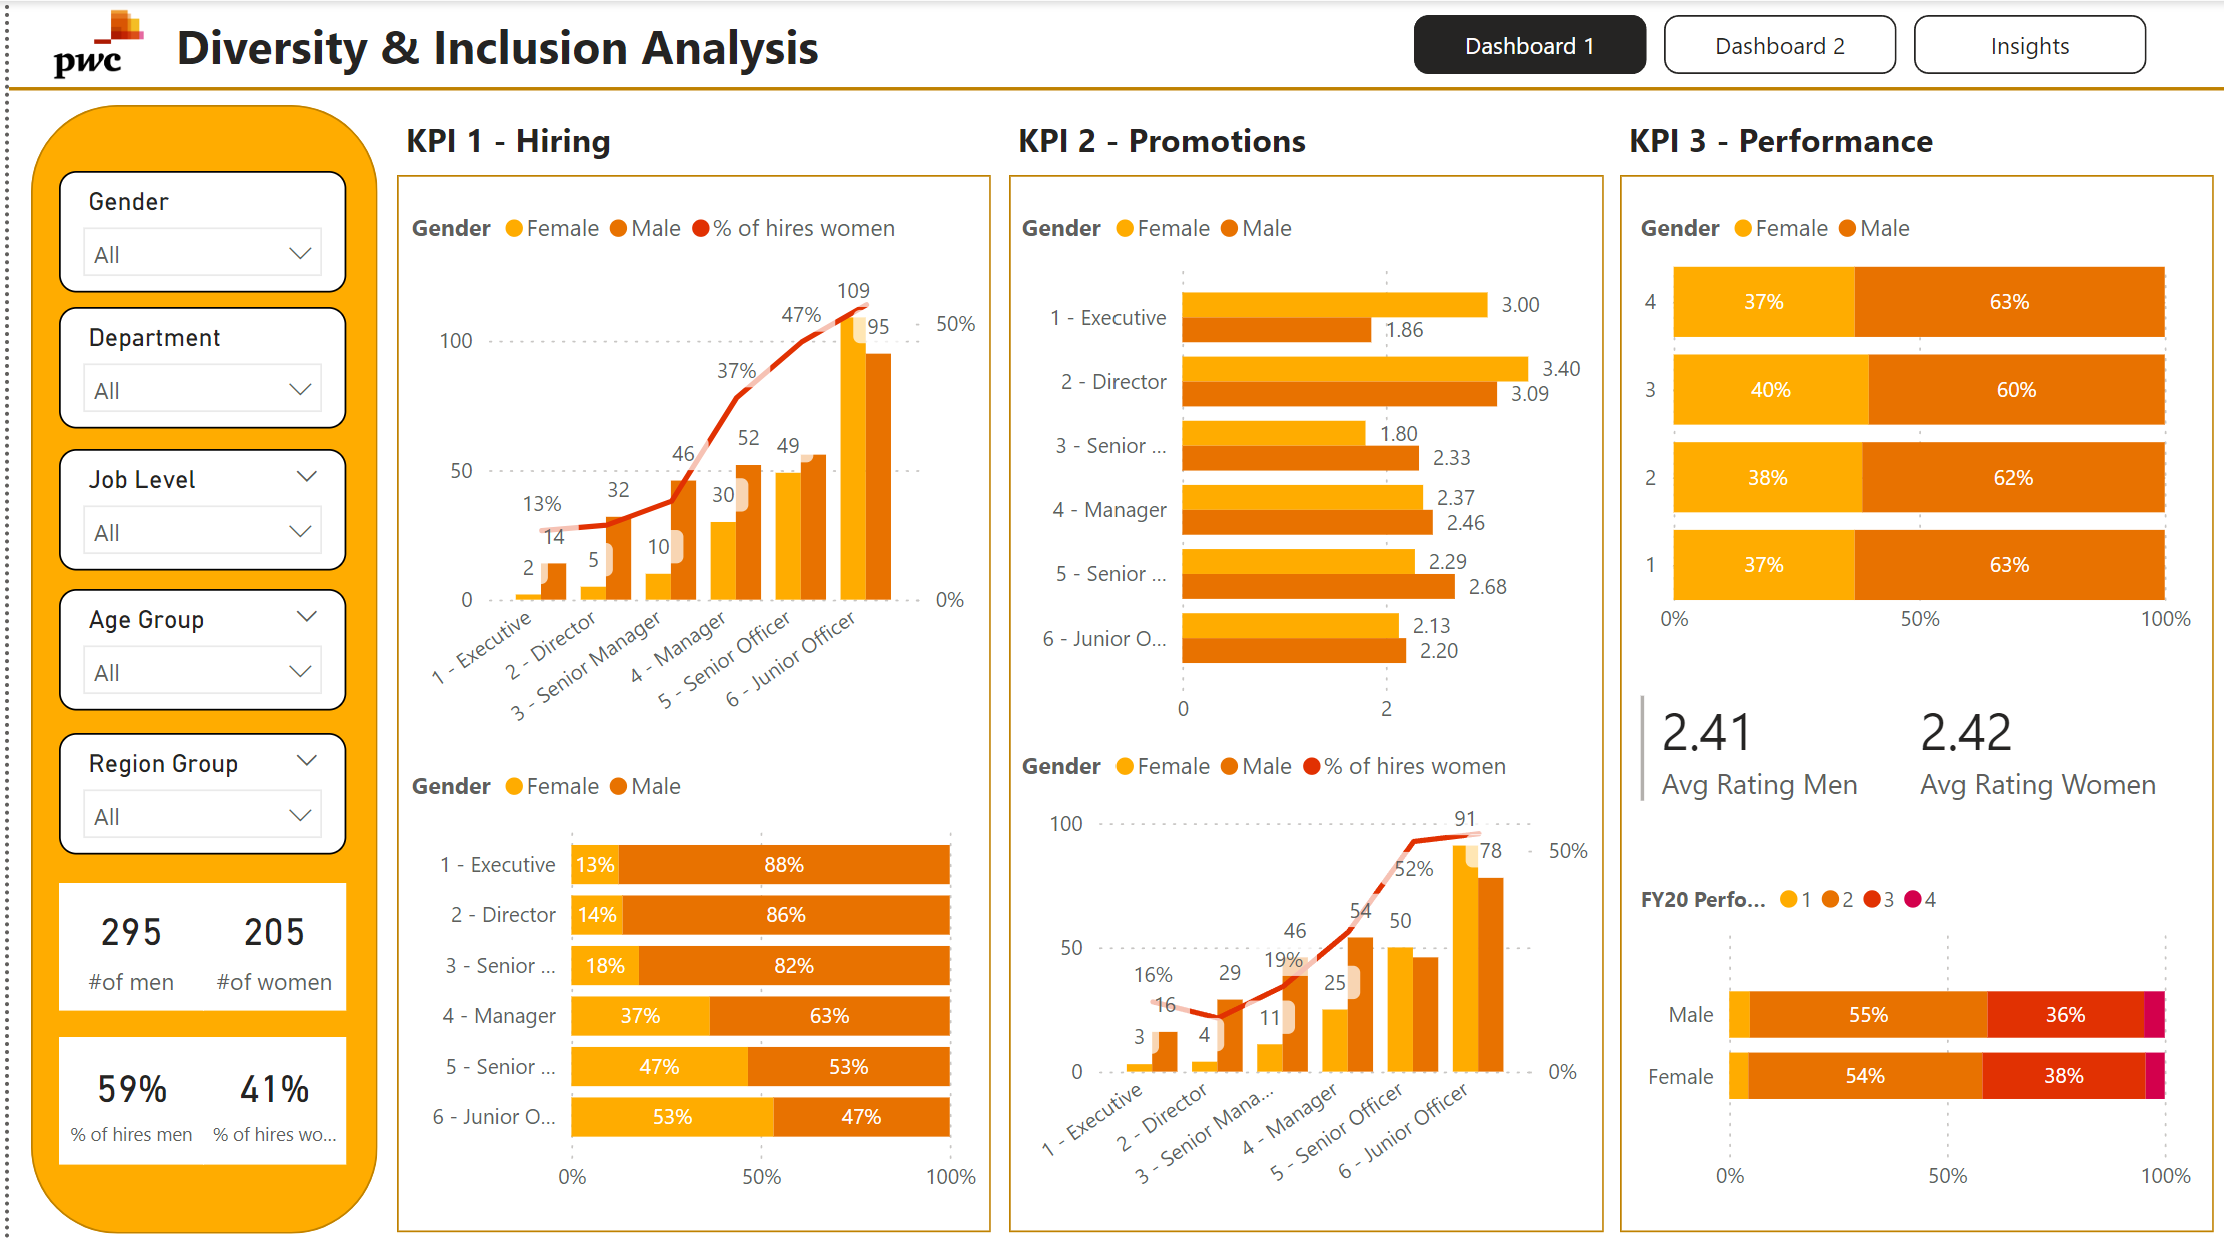

Layout of this report page (visuals, bound fields, positions):
{"tool":"powerbi","page":{"name":"Dashboard 1","canvas":[1280,720],"ordinal":0},"visuals":[{"type":"textbox","box":[90.4,1.8,393.1,45.7],"z":0},{"type":"shape","box":[12.5,59.1,199.7,650.1],"z":0,"group":"g1"},{"type":"image","box":[12.5,0,77.9,50.1],"z":1000},{"type":"pageNavigator","box":[808.7,8.1,423.6,34],"z":2000},{"type":"shape","box":[0,37.6,1279.7,25.1],"z":2000,"group":"g1"},{"type":"hundredPercentStackedBarChart","fields":{"Category":["Pharma Group AG.Job Level after FY20 promotions"],"Y":["CountNonNull(Pharma Group AG.Employee ID)"],"Series":["Pharma Group AG.Gender"]},"box":[227.5,431.6,334.9,263.3],"z":3000},{"type":"slicer","title":"Gender","fields":{"Values":["Pharma Group AG.Gender"]},"box":[28.7,97.6,165.7,69.9],"z":4000,"group":"g1"},{"type":"lineClusteredColumnComboChart","fields":{"Category":["Pharma Group AG.Job Level after FY20 promotions"],"Y":["CountNonNull(Pharma Group AG.Employee ID)"],"Y2":["Pharma Group AG.% of hires women"],"Series":["Pharma Group AG.Gender"]},"box":[227.5,111,334.9,325.1],"z":4000},{"type":"slicer","fields":{"Values":["Pharma Group AG.Last Department in FY20"]},"box":[28.7,176.4,165.7,69.9],"z":5000,"group":"g1"},{"type":"lineClusteredColumnComboChart","fields":{"Y":["CountNonNull(Pharma Group AG.Employee ID)"],"Y2":["Pharma Group AG.% of hires women"],"Series":["Pharma Group AG.Gender"],"Category":["Pharma Group AG.Job Level after FY21 promotions"]},"box":[578.5,420.9,335.8,274],"z":5000},{"type":"clusteredBarChart","fields":{"Category":["Pharma Group AG.Job Level after FY20 promotions"],"Series":["Pharma Group AG.Gender"],"Y":["Avg(Pharma Group AG.Time in Job Level @01.07.2020)"]},"box":[578.5,111,335.8,315.2],"z":6000},{"type":"slicer","fields":{"Values":["Pharma Group AG.Job Level after FY20 promotions"]},"box":[28.7,257.9,165.7,69.9],"z":6000,"group":"g1"},{"type":"group","id":"g1","title":"Group 1","box":[0,37.6,1279.7,671.6],"z":7000},{"type":"slicer","fields":{"Values":["Pharma Group AG.Age group"]},"box":[28.7,338.5,165.7,69.9],"z":7000,"group":"g1"},{"type":"textbox","box":[223.9,61.8,146.9,38.5],"z":8000},{"type":"slicer","fields":{"Values":["Pharma Group AG.Broad region group: nationality 1"]},"box":[28.7,420.9,165.7,69.9],"z":8000,"group":"g1"},{"type":"textbox","box":[575.8,61.8,243.6,38.5],"z":9000},{"type":"textbox","box":[926.9,62.7,315.2,38.5],"z":10000},{"type":"card","fields":{"Values":["Pharma Group AG.#of men"]},"box":[28.7,507.7,83.3,73.4],"z":10000,"group":"g1"},{"type":"shape","box":[223.9,100.3,342.1,609],"z":11000},{"type":"card","fields":{"Values":["Pharma Group AG.#of women"]},"box":[111.9,507.7,82.4,73.4],"z":11000,"group":"g1"},{"type":"shape","box":[575.8,100.3,342.1,609],"z":12000},{"type":"card","fields":{"Values":["Pharma Group AG.% of hires men"]},"box":[28.7,596.4,83.3,73.4],"z":12000,"group":"g1"},{"type":"shape","box":[926.9,100.3,342.1,609],"z":13000},{"type":"card","fields":{"Values":["Pharma Group AG.% of hires women"]},"box":[111.9,596.4,82.4,73.4],"z":13000,"group":"g1"},{"type":"hundredPercentStackedBarChart","fields":{"Category":["Pharma Group AG.FY20 Performance Rating"],"Y":["CountNonNull(Pharma Group AG.Employee ID)"],"Series":["Pharma Group AG.Gender"]},"box":[934,111,326.9,263.3],"z":14000},{"type":"hundredPercentStackedBarChart","fields":{"Category":["Pharma Group AG.Gender"],"Y":["CountNonNull(Pharma Group AG.Employee ID)"],"Series":["Pharma Group AG.FY20 Performance Rating"]},"box":[934,497.9,326.9,197],"z":15000},{"type":"multiRowCard","fields":{"Values":["Pharma Group AG.Avg Rating Men","Pharma Group AG.Avg Rating Women"]},"box":[934,394.9,319.7,81.5],"z":15001}]}

Visuals, with their boxes in screenshot pixels (x1, y1, x2, y2), scaled from the page's 1280x720 canvas onto the 2224x1240 screenshot:
textbox: <box>157,3,840,82</box>
shape: <box>22,102,369,1221</box>
image: <box>22,0,157,86</box>
pageNavigator: <box>1405,14,2141,73</box>
shape: <box>0,65,2223,108</box>
hundredPercentStackedBarChart - Pharma Group AG.Job Level after FY20 promotions x CountNonNull(Pharma Group AG.Employee ID): <box>395,743,977,1197</box>
"Gender" slicer: <box>50,168,338,288</box>
lineClusteredColumnComboChart - Pharma Group AG.Job Level after FY20 promotions x CountNonNull(Pharma Group AG.Employee ID): <box>395,191,977,751</box>
slicer - Pharma Group AG.Last Department in FY20: <box>50,304,338,424</box>
lineClusteredColumnComboChart - CountNonNull(Pharma Group AG.Employee ID) x Pharma Group AG.% of hires women: <box>1005,725,1589,1197</box>
clusteredBarChart - Pharma Group AG.Job Level after FY20 promotions x Pharma Group AG.Gender: <box>1005,191,1589,734</box>
slicer - Pharma Group AG.Job Level after FY20 promotions: <box>50,444,338,565</box>
"Group 1" group: <box>0,65,2223,1221</box>
slicer - Pharma Group AG.Age group: <box>50,583,338,703</box>
textbox: <box>389,106,644,173</box>
slicer - Pharma Group AG.Broad region group: nationality 1: <box>50,725,338,845</box>
textbox: <box>1000,106,1424,173</box>
textbox: <box>1610,108,2158,174</box>
card - Pharma Group AG.#of men: <box>50,874,195,1001</box>
shape: <box>389,173,983,1222</box>
card - Pharma Group AG.#of women: <box>194,874,338,1001</box>
shape: <box>1000,173,1595,1222</box>
card - Pharma Group AG.% of hires men: <box>50,1027,195,1154</box>
shape: <box>1610,173,2205,1222</box>
card - Pharma Group AG.% of hires women: <box>194,1027,338,1154</box>
hundredPercentStackedBarChart - Pharma Group AG.FY20 Performance Rating x CountNonNull(Pharma Group AG.Employee ID): <box>1623,191,2191,645</box>
hundredPercentStackedBarChart - Pharma Group AG.Gender x CountNonNull(Pharma Group AG.Employee ID): <box>1623,857,2191,1197</box>
multiRowCard - Pharma Group AG.Avg Rating Men x Pharma Group AG.Avg Rating Women: <box>1623,680,2178,820</box>
